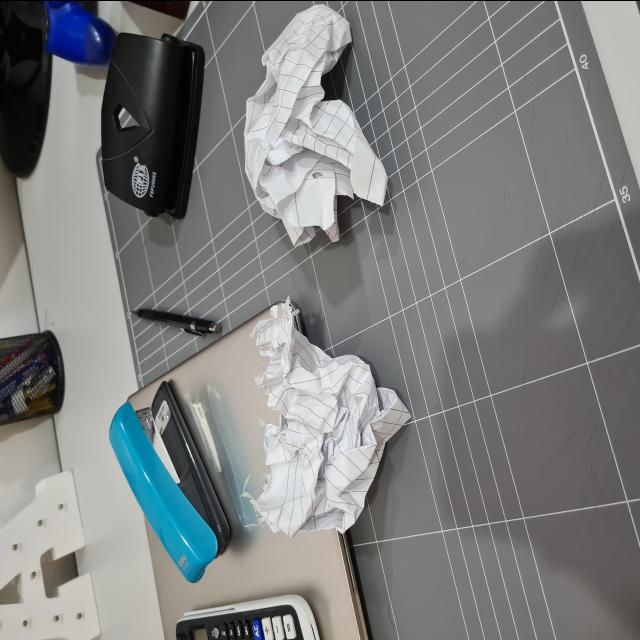kertas: (254, 302, 406, 540), (244, 9, 389, 252)
